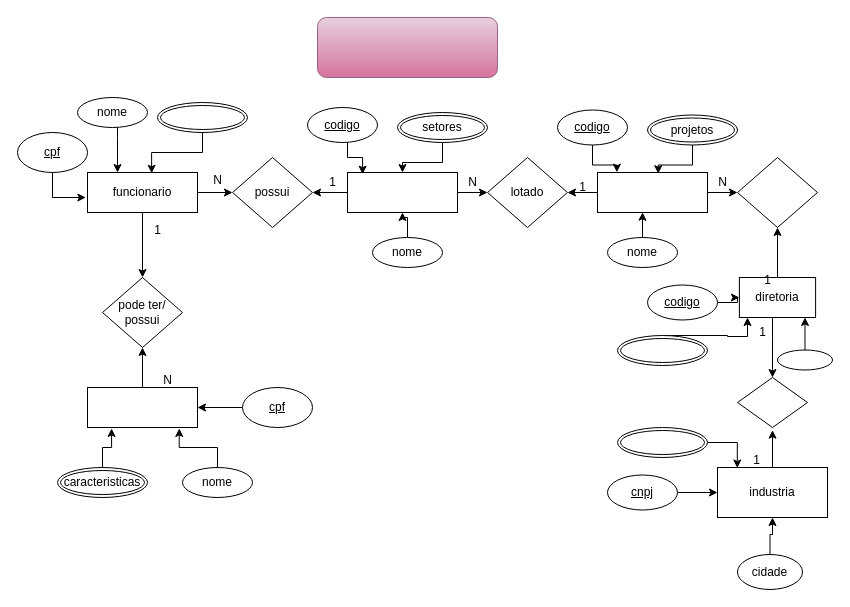
Some shapes in this 850 by 607 pixel diagram are drawn without their labels. Each missing label, with the centre of its shape:
"cargo" goes at point 402,192.
"chefe" goes at point 804,359.
"comanda" goes at point 772,402.
"da ordens" goes at point 777,192.
"demandas" goes at point 662,350.
"departamento" goes at point 652,192.
"dependentes" goes at point 142,407.
"locadoras" goes at point 662,442.
"REVISÃO" goes at point 407,47.
"telefone" goes at point 202,117.
